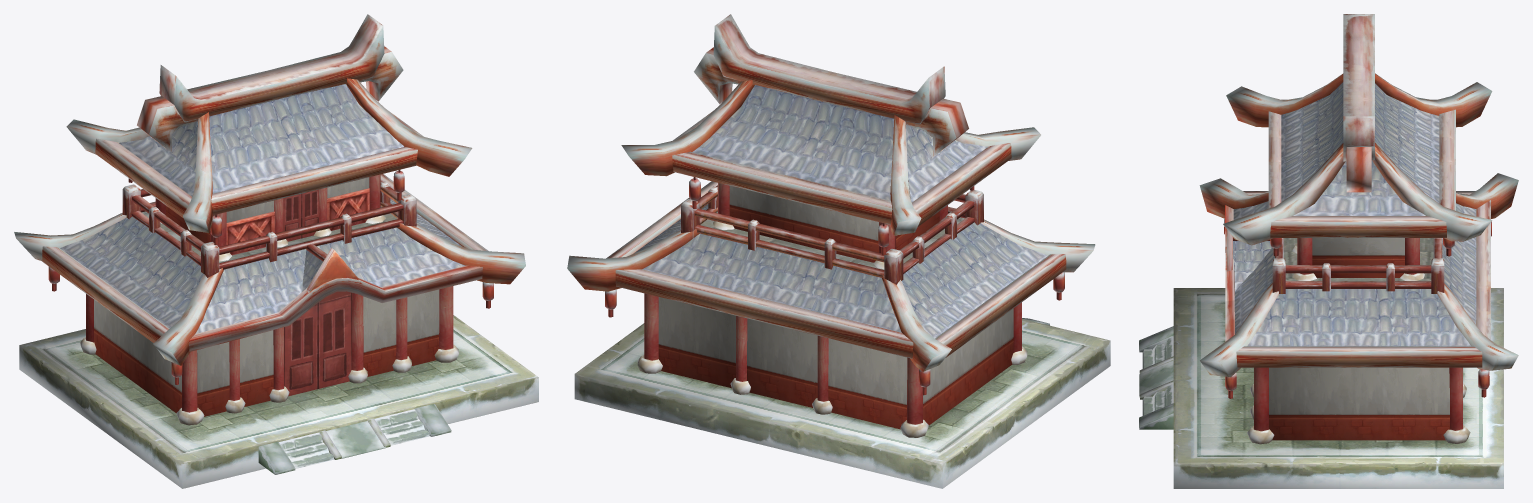
Rendered from SM_House_02.fbx.
3 views of the same model, side by side, from view 1: azimuth 30°, elevation 25°; view 2: azimuth 150°, elevation 25°; view 3: azimuth 270°, elevation 25° (orthographic). The views are drawn at different scales.
Parts seen in each view (by area): view 1: SM_House_02; view 2: SM_House_02; view 3: SM_House_02.
Boxes of the visible parts, box(x1,y1,x2,y2) form: SM_House_02: box(14, 14, 538, 488); SM_House_02: box(567, 14, 1110, 488); SM_House_02: box(1139, 14, 1518, 488).
Bounding box in the file's own units: 6.27 × 5.37 × 5.48.
